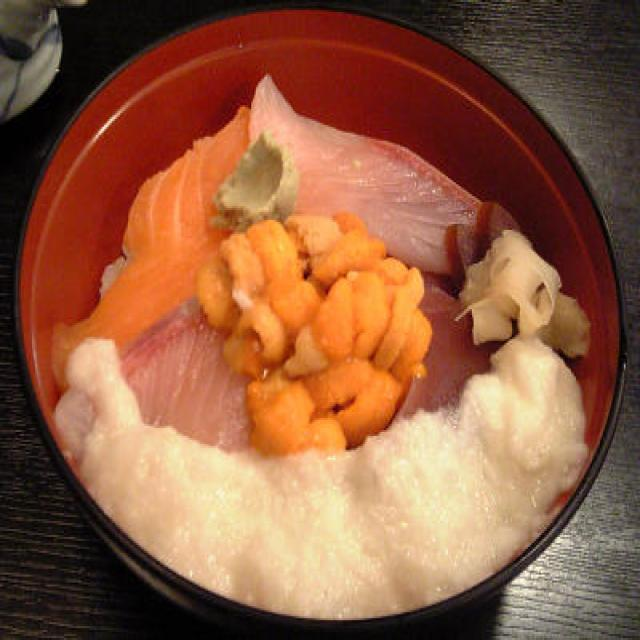刺身生食: (11, 0, 619, 640)
